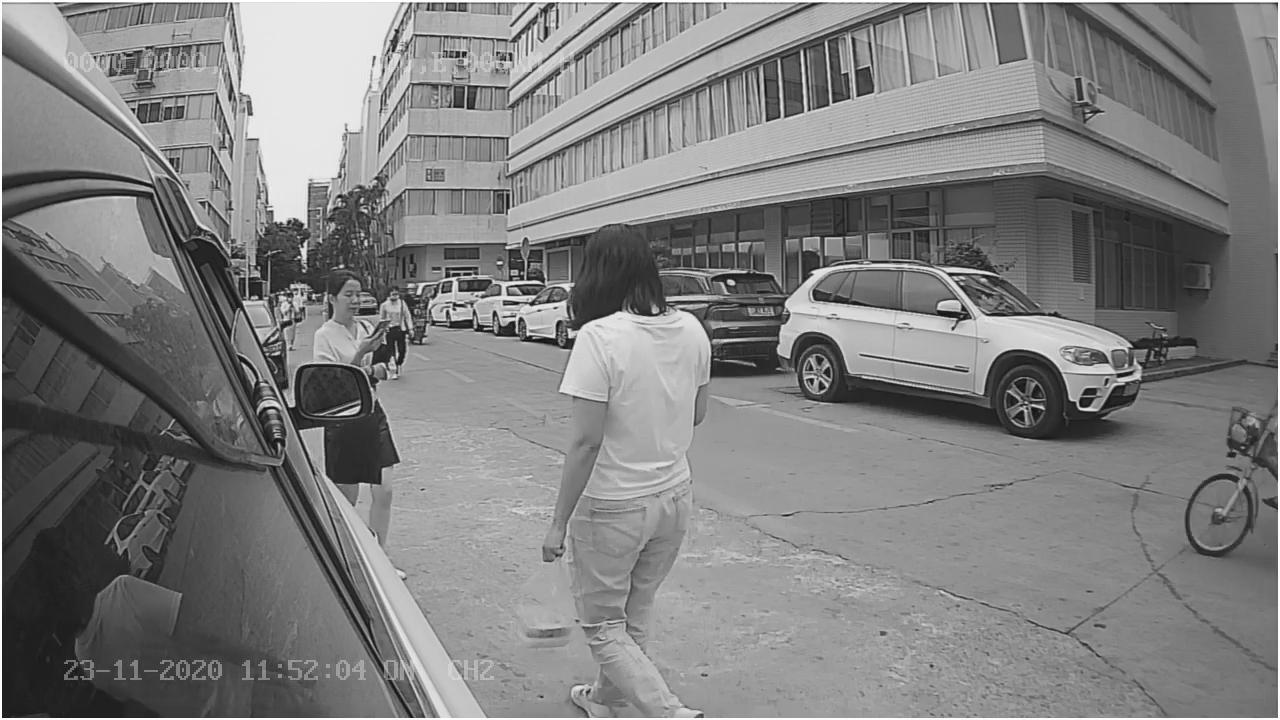person: (545, 218, 713, 449), (306, 265, 388, 362)
